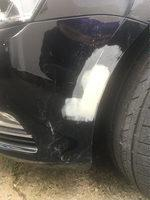dent: (49, 37, 122, 159)
